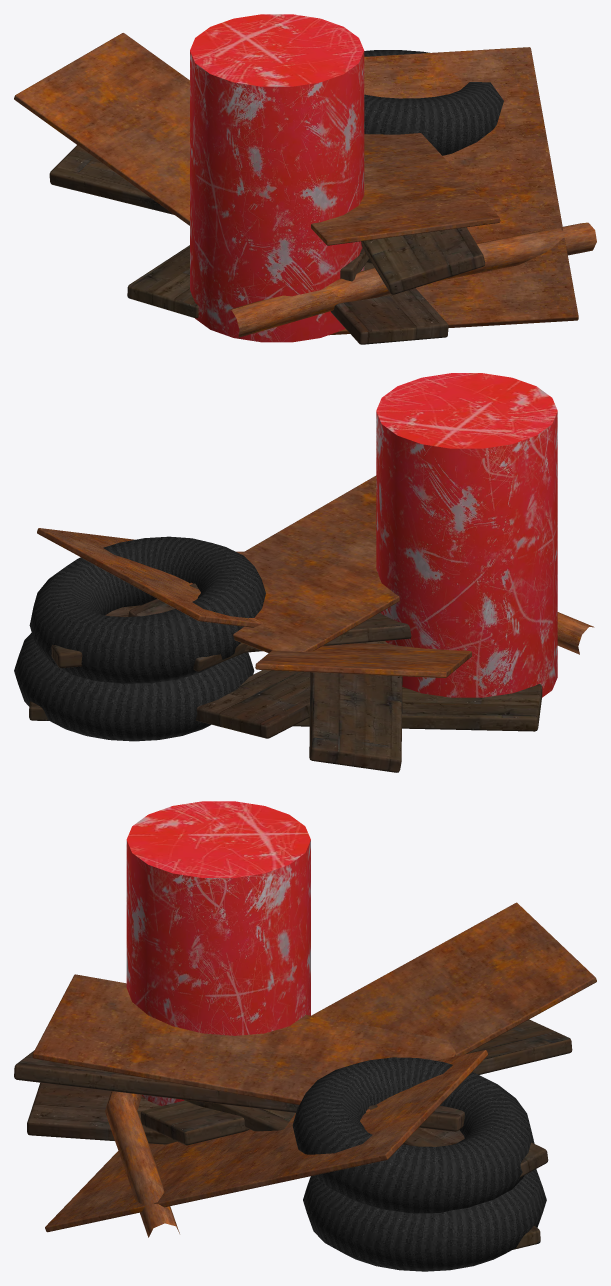
Rendered from junk_drums.glb.
3 renders of one model, top to bottom at view 1: azimuth 30°, elevation 25°; view 2: azimuth 150°, elevation 25°; view 3: azimuth 270°, elevation 25°, orthographic. The views are drawn at different scales.
Parts seen in each view (by area): view 1: prop; view 2: prop; view 3: prop.
Boxes of the visible parts, x1,y1,x2,y2 form: prop: [14, 14, 596, 344]; prop: [14, 373, 594, 772]; prop: [14, 801, 596, 1271].
Bounding box in the file's own units: 1.02 × 0.5683 × 1.08.
Materials: 4 (4 with a texture image).
